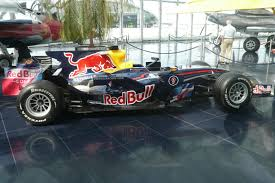FormulaOneCar: (3, 44, 260, 132)
